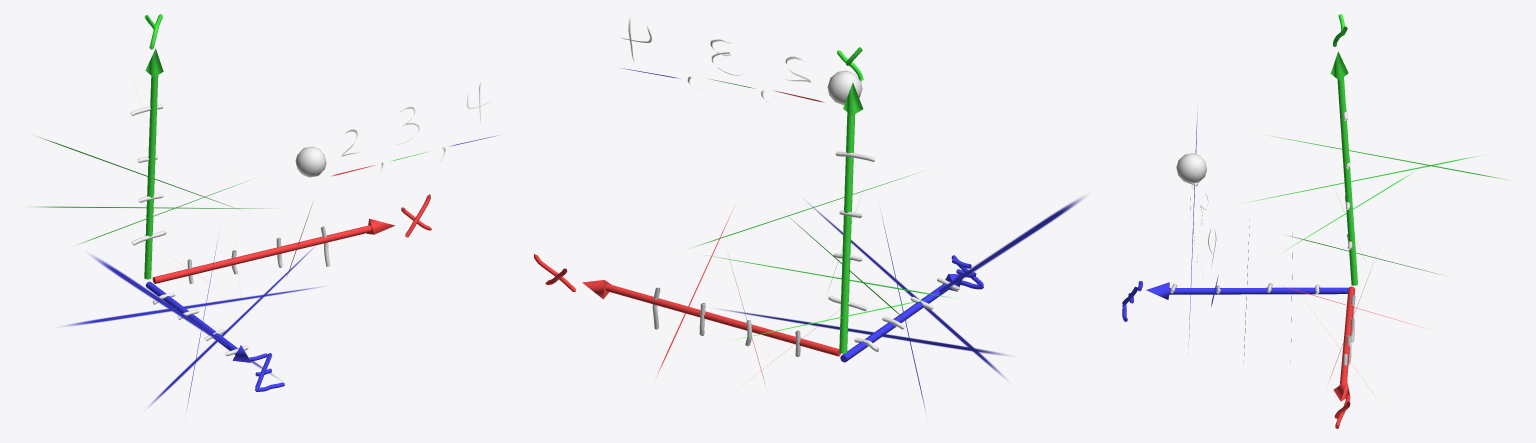
Rendered from math.glb.
3 renders of one model, left to right at view 1: azimuth 30°, elevation 25°; view 2: azimuth 150°, elevation 25°; view 3: azimuth 270°, elevation 25°, orthographic. The views are drawn at different scales.
Visible parts, largest first — view 1: position_2, RGBA(0.922, 0.922, 0.922, 1.000):ShapeMaterial (Instance)_3; view 2: position_2, RGBA(0.922, 0.922, 0.922, 1.000):ShapeMaterial (Instance)_3; view 3: position_2, RGBA(0.922, 0.922, 0.922, 1.000):ShapeMaterial (Instance)_3.
Part boxes in pixels (x1,y1,x2,y2): position_2: (37,14,496,407); RGBA(0.922, 0.922, 0.922, 1.000):ShapeMaterial (Instance)_3: (295,146,326,177); position_2: (534,18,1083,410); RGBA(0.922, 0.922, 0.922, 1.000):ShapeMaterial (Instance)_3: (827,70,862,105); position_2: (1122,14,1505,428); RGBA(0.922, 0.922, 0.922, 1.000):ShapeMaterial (Instance)_3: (1176,153,1206,183).
Size of the model in its own units: 0.7949 by 0.6661 by 0.6517.
12 materials, 4 textured.
